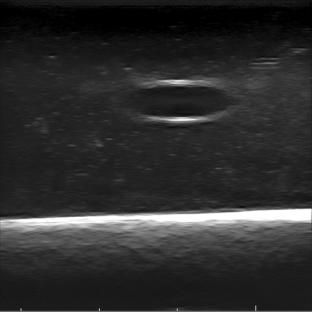vessel: (127, 79, 236, 123)
